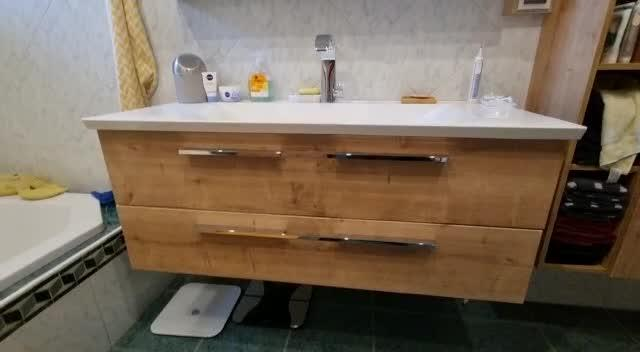cabinet_door: (101, 130, 559, 222), (132, 212, 538, 301)
handle: (195, 221, 442, 257), (175, 139, 452, 170)
